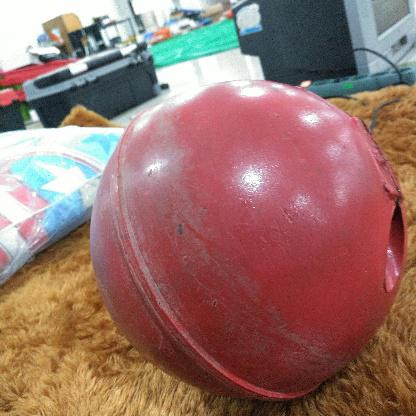red_buoy: (89, 78, 407, 403)
